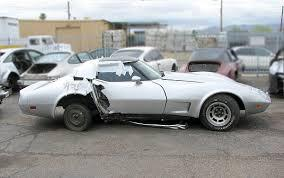doorouter-dent: (96, 83, 135, 117)
quaterpanel-dent: (59, 76, 92, 102)
